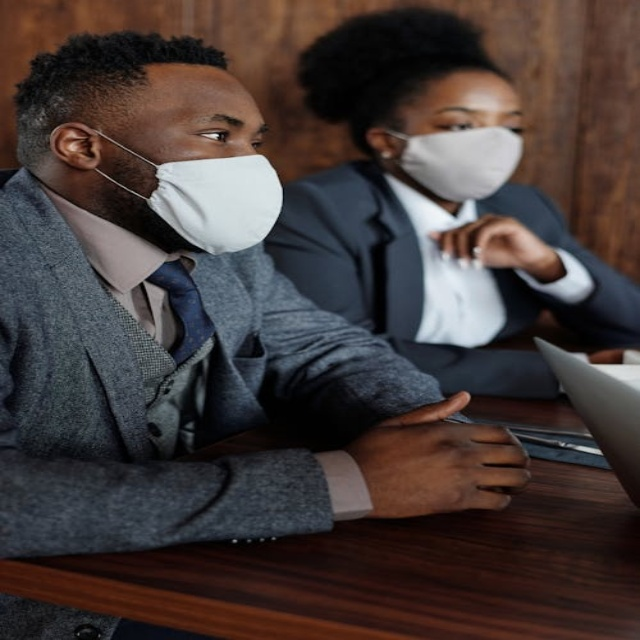Gafas: (375, 115, 529, 139)
Mascara: (100, 129, 285, 254), (384, 124, 525, 201)
Sin_gafas: (197, 130, 229, 142), (439, 122, 475, 132), (507, 126, 525, 135), (249, 140, 264, 150)
Sin_guantes: (339, 395, 535, 521)
